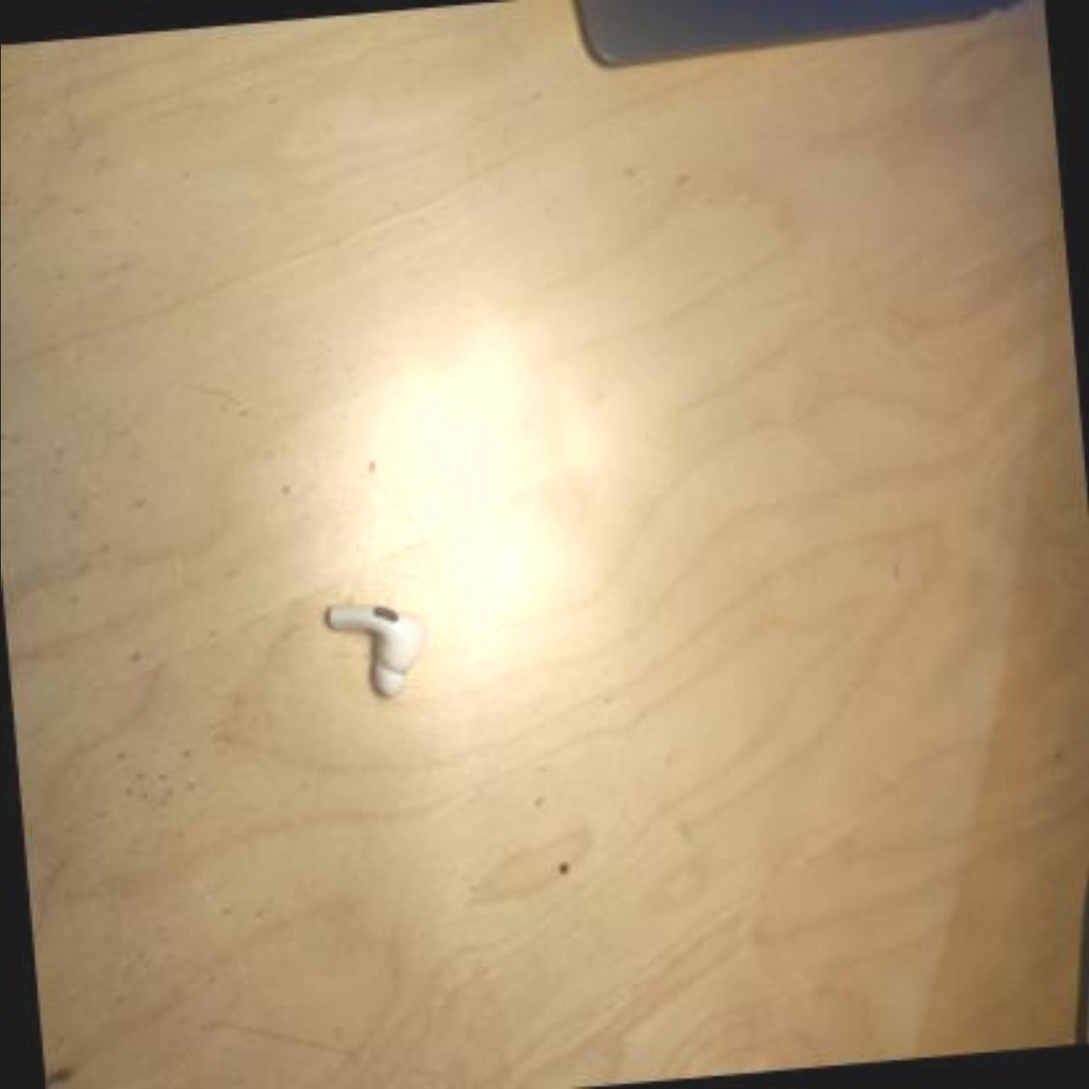Airpods_Units: (326, 594, 431, 709)
